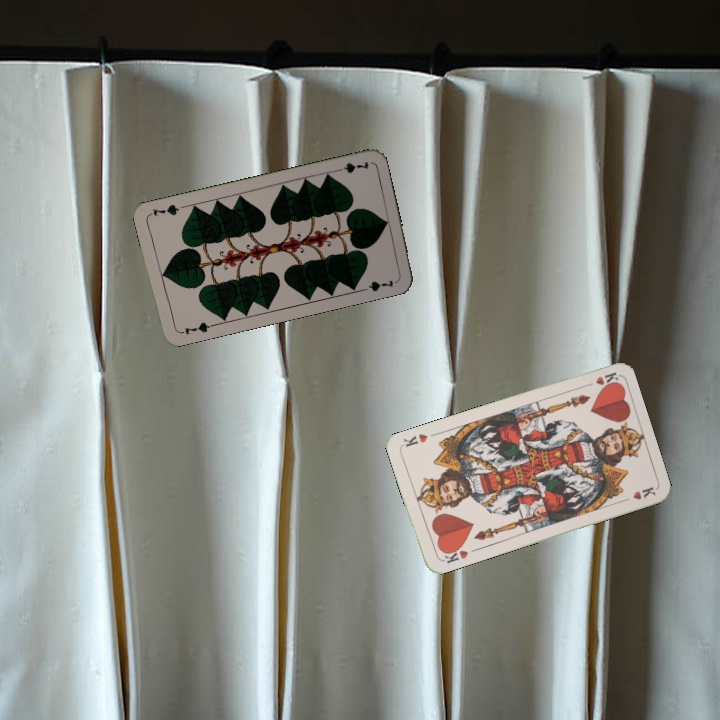G7: (175, 318, 215, 337), (331, 158, 371, 176)
HK: (579, 368, 620, 390), (437, 542, 471, 566)
